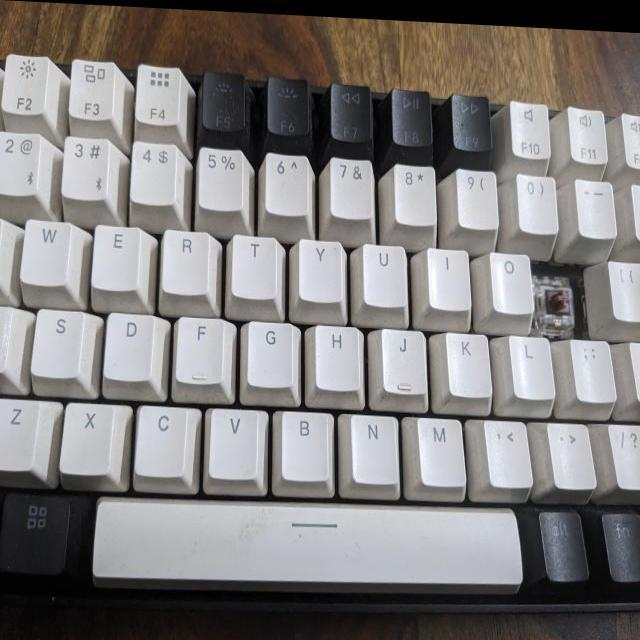key-switch: (535, 266, 575, 322)
